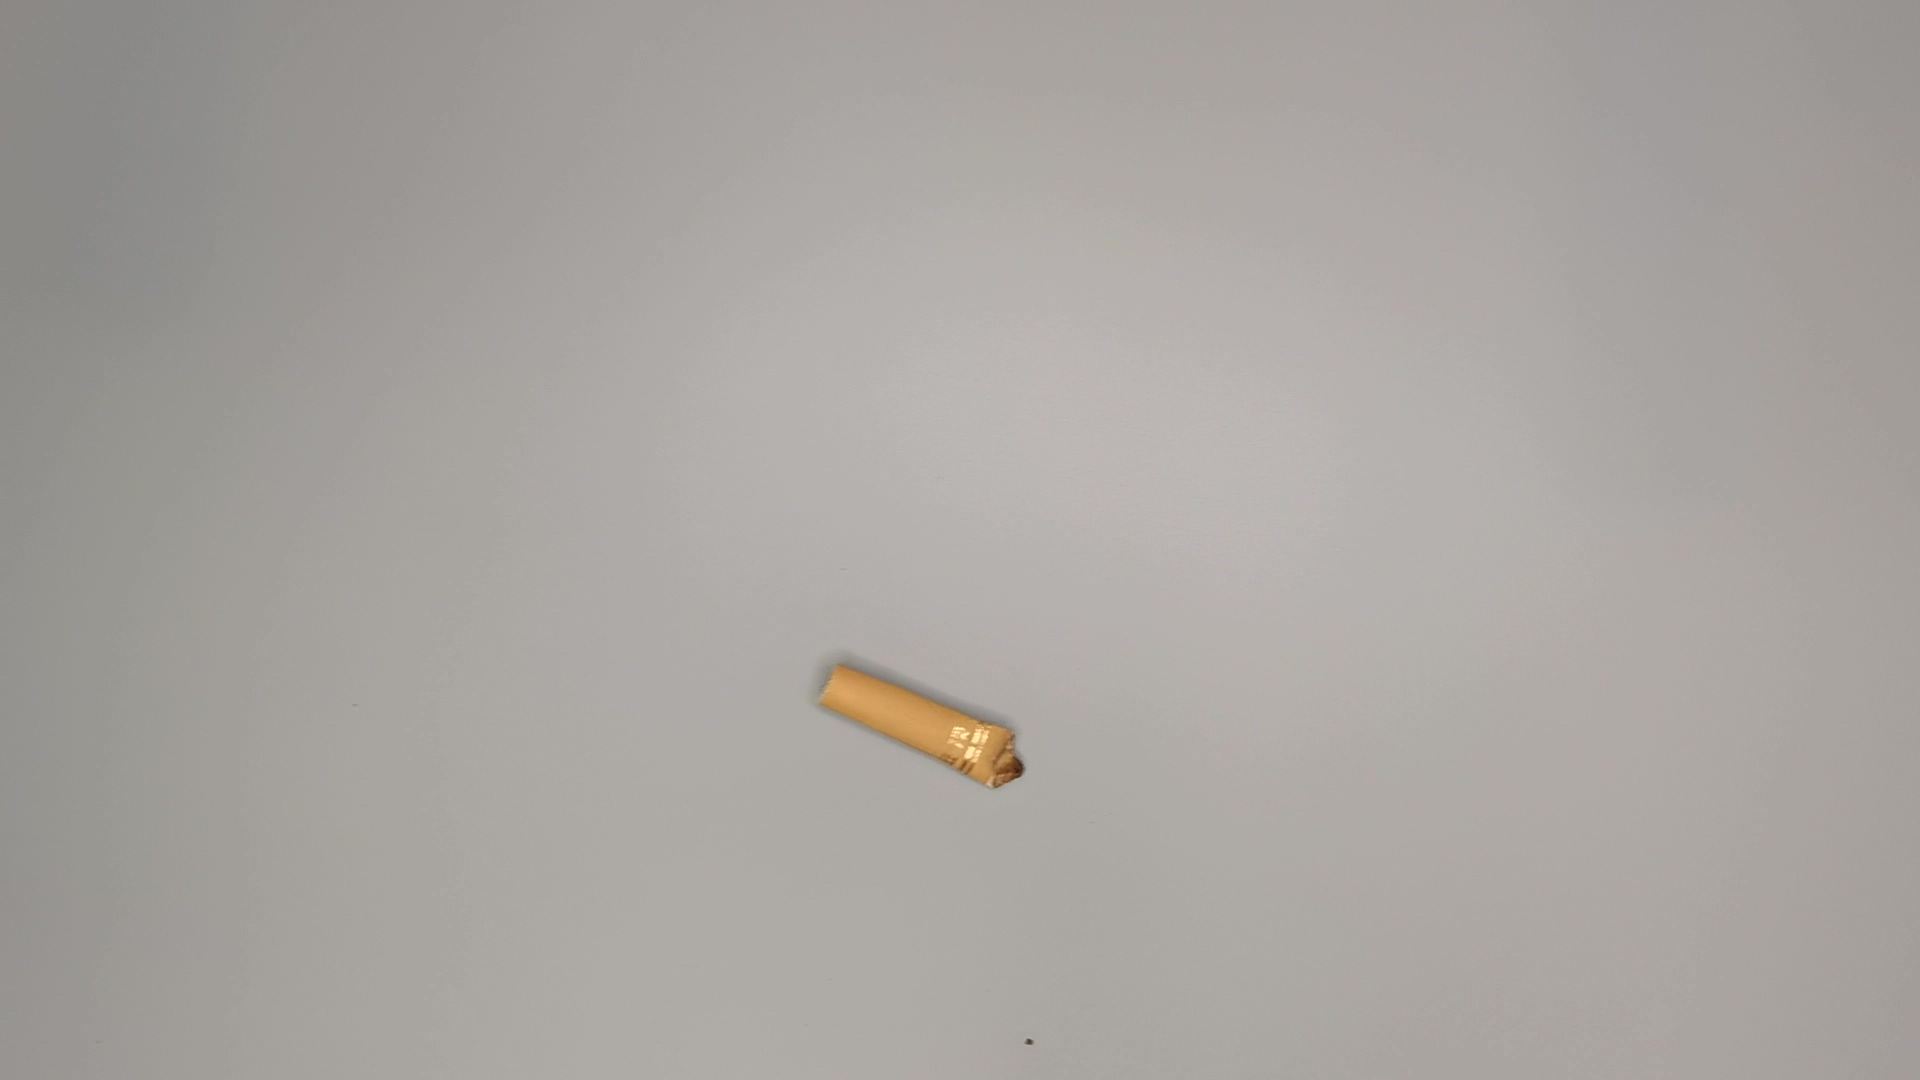cigarette: (808, 658, 1044, 790)
